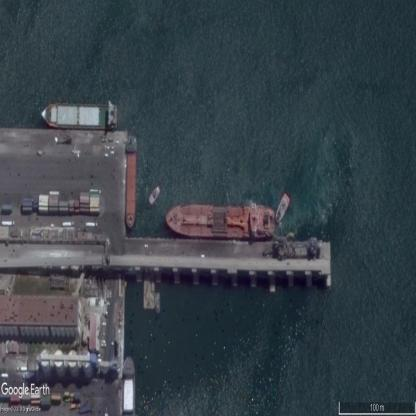ship: (164, 204, 275, 238), (43, 100, 118, 132), (126, 136, 138, 229), (122, 355, 136, 414), (275, 194, 291, 227), (146, 183, 162, 211)
